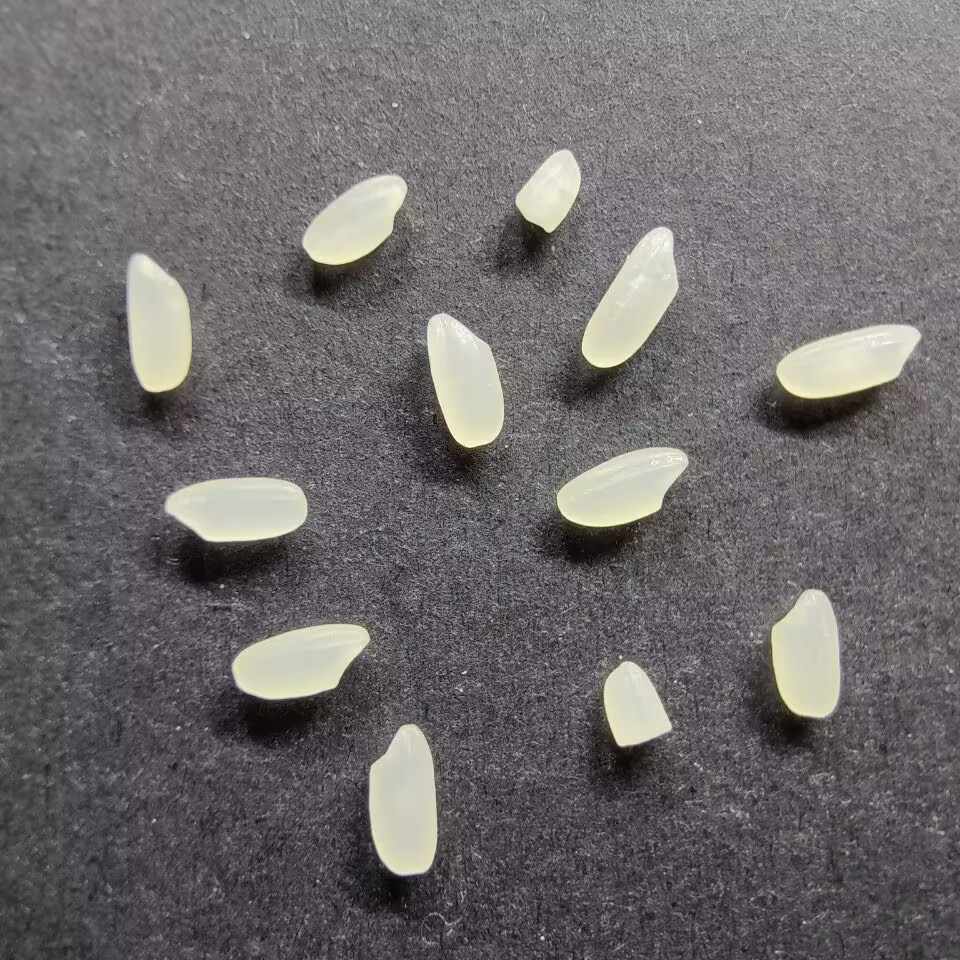broken: (603, 658, 675, 747), (512, 146, 583, 236)
rice: (580, 224, 682, 369), (364, 722, 441, 876), (773, 321, 923, 400), (552, 445, 691, 528), (230, 622, 372, 701), (426, 309, 506, 447), (299, 171, 409, 266), (162, 474, 310, 543), (126, 250, 195, 394), (768, 587, 842, 719)
